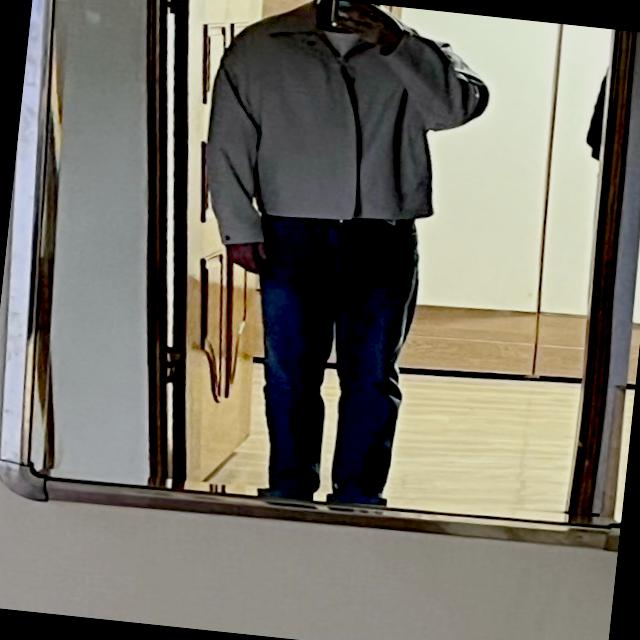denimpants: (238, 202, 430, 504)
jacket: (191, 0, 497, 267)
